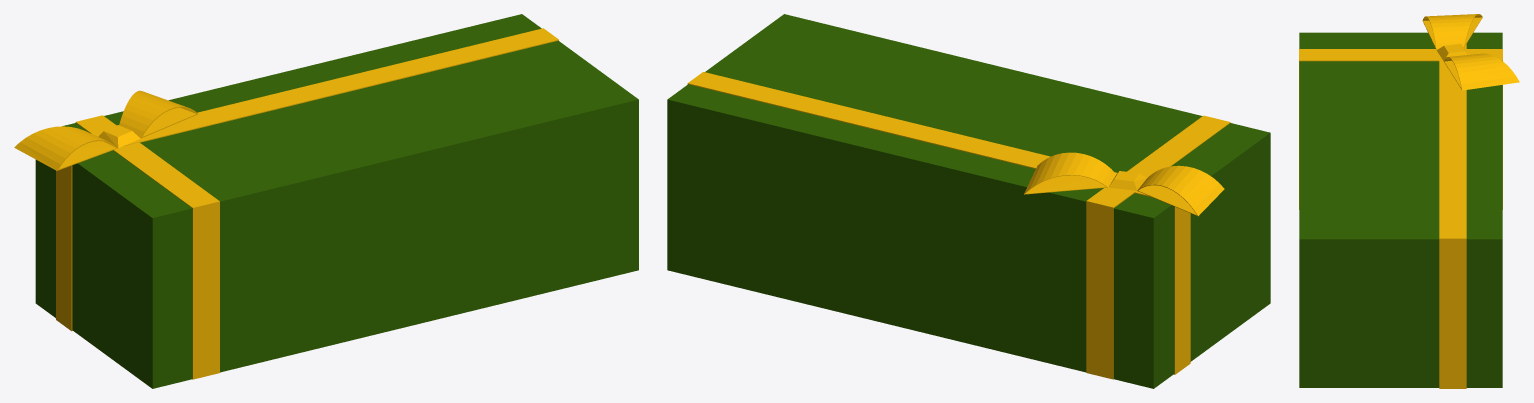
The model's file is Prop_Christmas_Present_Green_06.FBX.
3 renders of one model, left to right at view 1: azimuth 30°, elevation 25°; view 2: azimuth 150°, elevation 25°; view 3: azimuth 270°, elevation 25°, orthographic. The views are drawn at different scales.
Visible parts, largest first — view 1: Prop_Christmas_Present_Green_06; view 2: Prop_Christmas_Present_Green_06; view 3: Prop_Christmas_Present_Green_06.
Part boxes in pixels (x1,y1,x2,y2): Prop_Christmas_Present_Green_06: (14, 14, 638, 388); Prop_Christmas_Present_Green_06: (667, 14, 1270, 388); Prop_Christmas_Present_Green_06: (1299, 14, 1519, 388).
Size of the model in its own units: 852 by 298 by 360.
